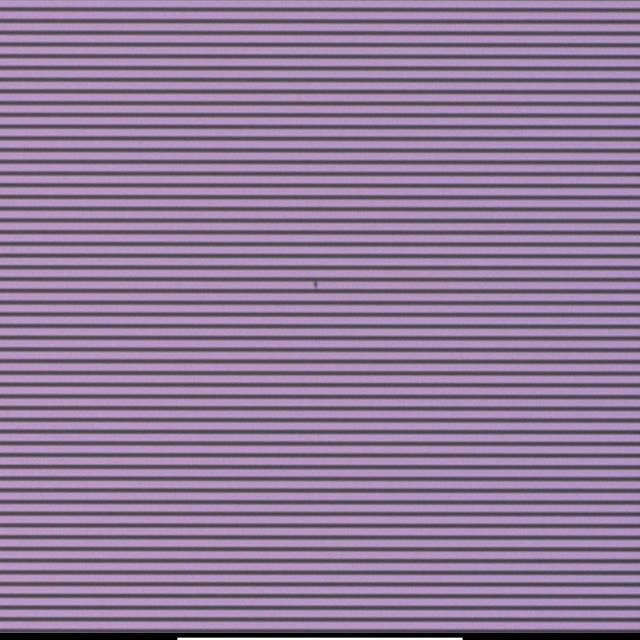nonvisual: (311, 279, 320, 290)
